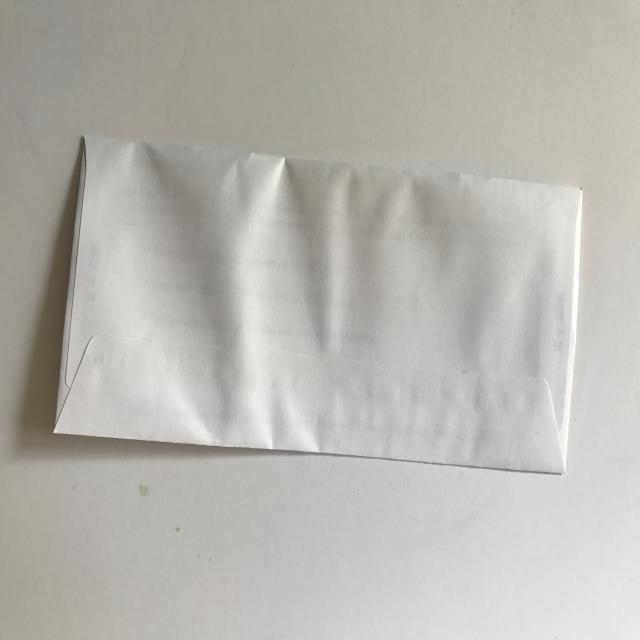paper: (52, 136, 585, 481)
